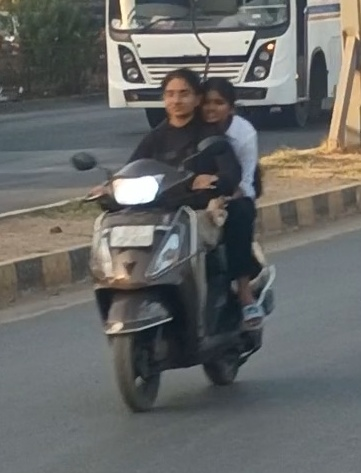BikeWithRider: (64, 57, 288, 419)
NoHelmet: (196, 77, 249, 128), (155, 67, 201, 125)
